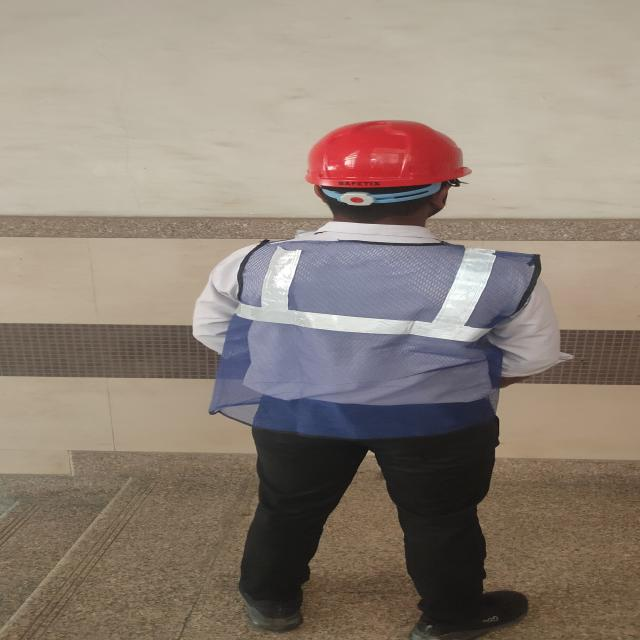safe: (194, 120, 542, 640)
